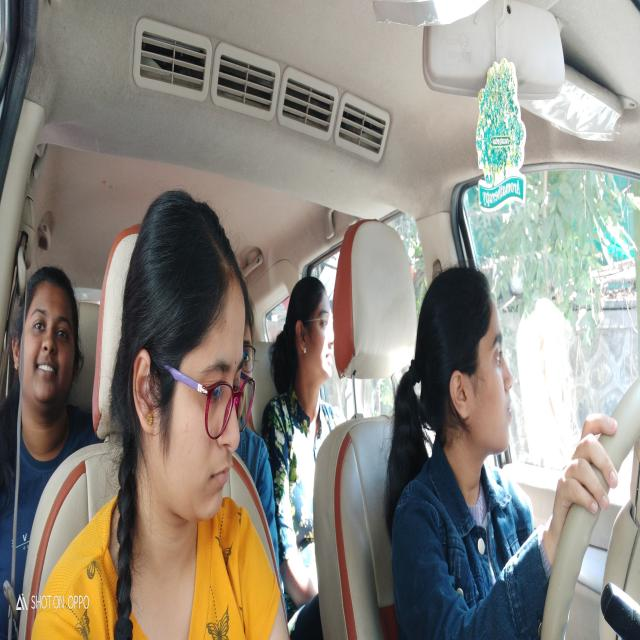LeftRight: (424, 243, 523, 488)
person: (107, 187, 256, 528), (16, 249, 88, 431), (291, 256, 339, 429), (244, 276, 258, 418)
